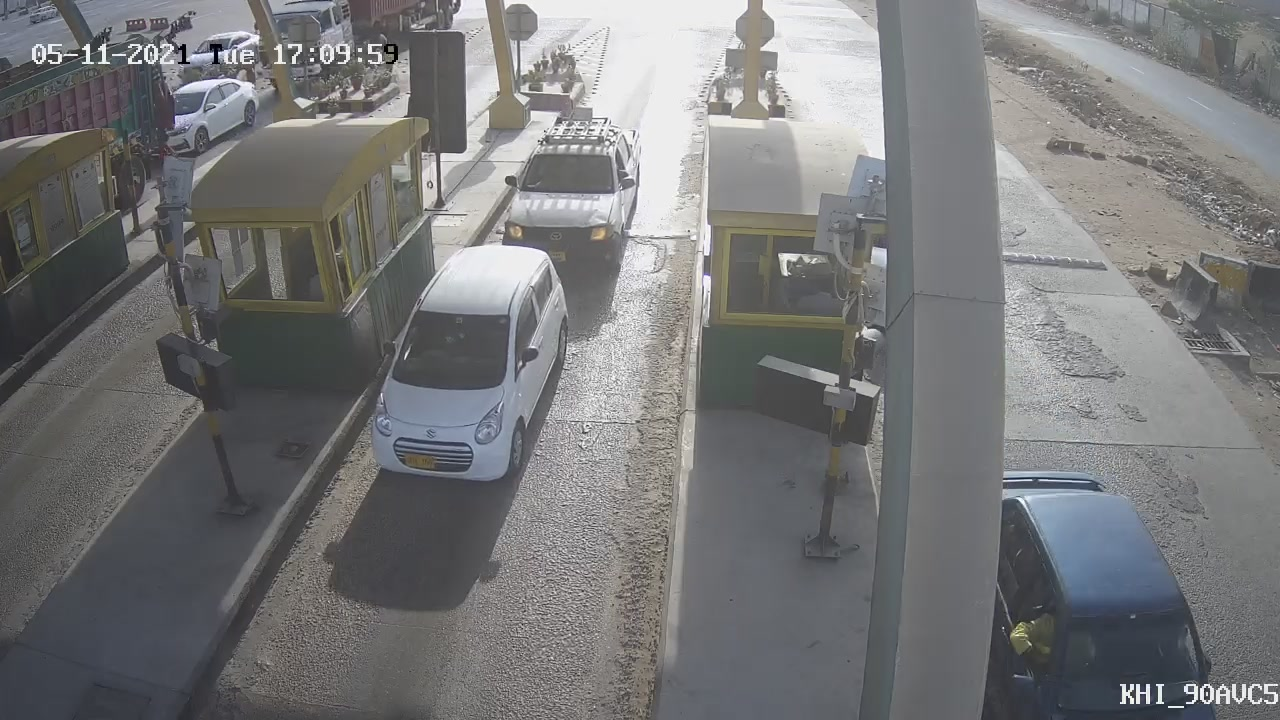F1: (342, 226, 596, 505), (485, 87, 660, 292)
